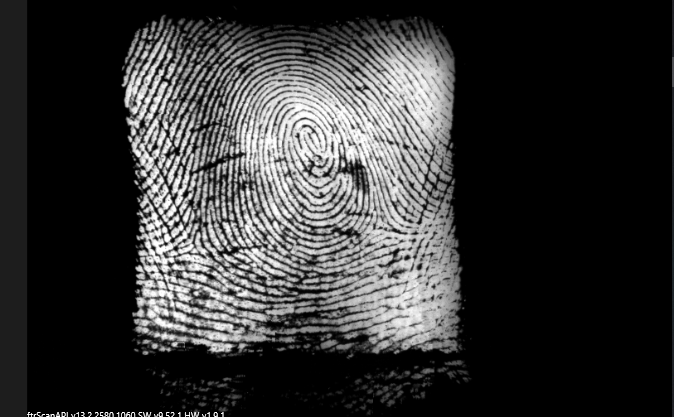deltas: (172, 210, 218, 262), (362, 205, 400, 247)
nucleo: (290, 114, 327, 158)
